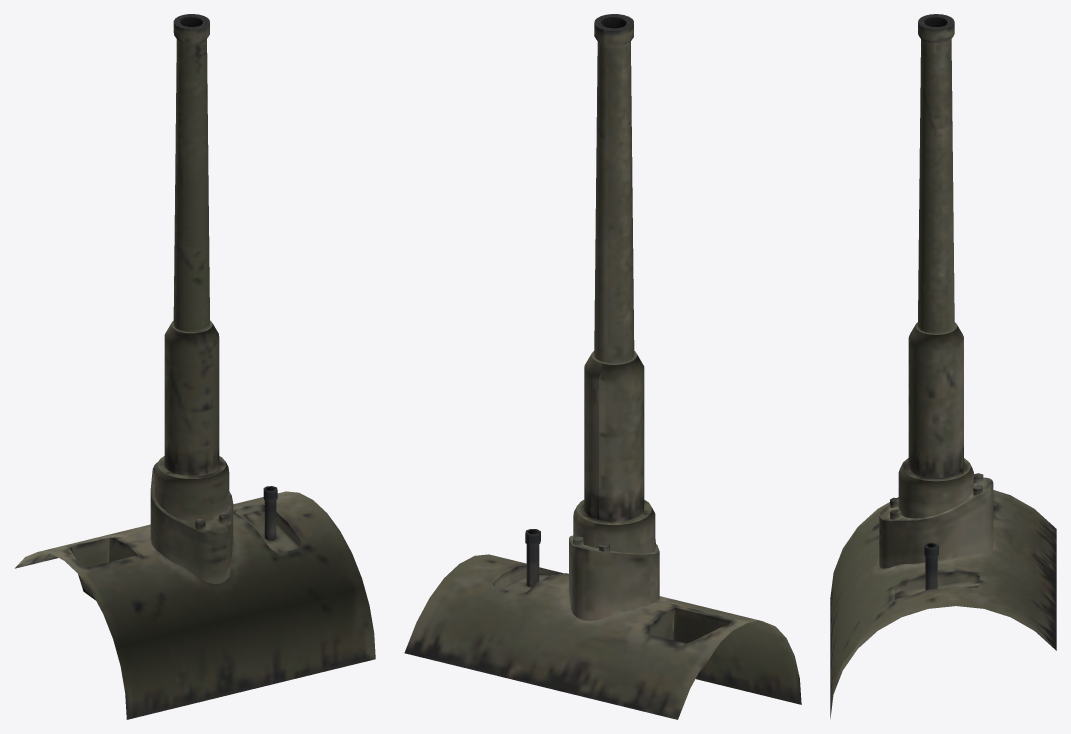
Rendered from Gun_01.glb.
3 renders of one model, left to right at view 1: azimuth 30°, elevation 25°; view 2: azimuth 150°, elevation 25°; view 3: azimuth 270°, elevation 25°, orthographic. The views are drawn at different scales.
Visible parts, largest first — view 1: set_0_group_0; view 2: set_0_group_0; view 3: set_0_group_0.
Boxes of the visible parts, left/top/right/bottom form: set_0_group_0: left=15, top=14, right=375, bottom=719; set_0_group_0: left=404, top=14, right=801, bottom=719; set_0_group_0: left=830, top=14, right=1056, bottom=718.
Bounding box in the file's own units: 0.5744 × 1.39 × 0.4498.
1 material, 1 textured.
